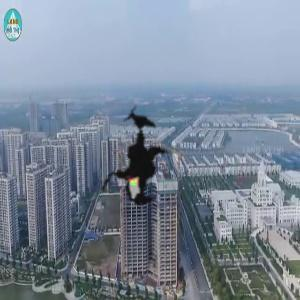drone: (57, 84, 207, 234)
